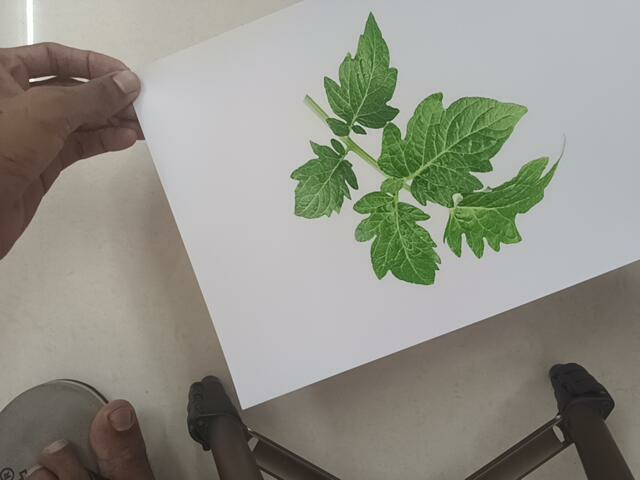Tomamto_Leaf_Healthy: (292, 14, 567, 292)
